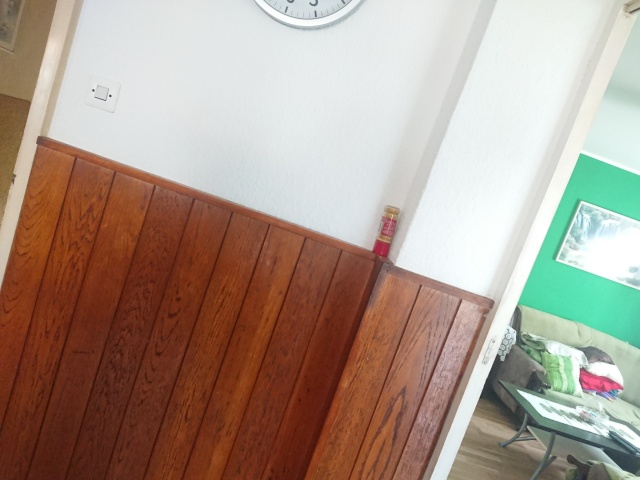Kotanyi Curry Spices Mix 70g: (370, 203, 402, 259)
